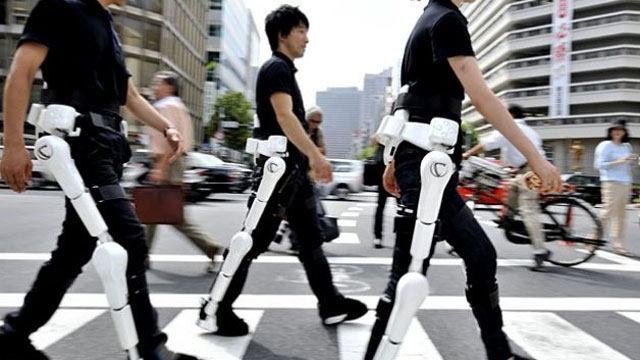feet: (1, 298, 205, 360), (194, 273, 371, 340), (128, 231, 232, 275), (586, 221, 634, 259)
